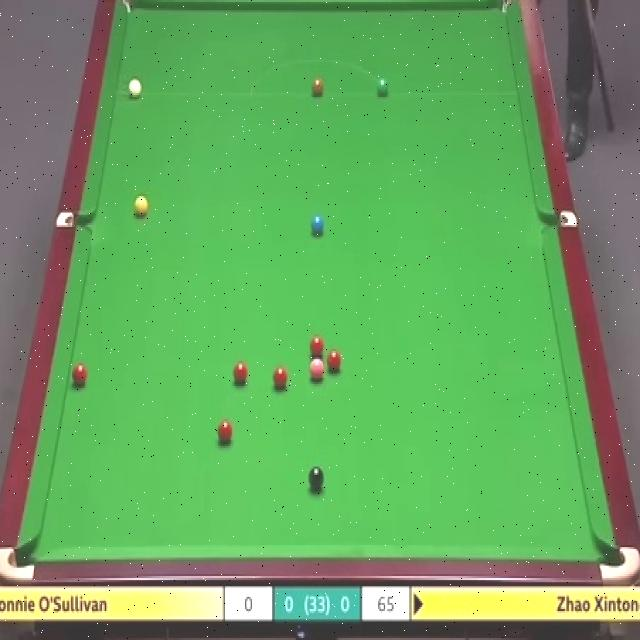black-ball: (308, 465, 326, 492)
blue-ball: (310, 212, 325, 236)
brown-ball: (311, 78, 324, 97)
green-ball: (376, 76, 389, 100)
pink-ball: (310, 357, 326, 381)
red-ball: (272, 365, 289, 393), (327, 349, 344, 376), (233, 360, 249, 388), (217, 418, 234, 444), (72, 362, 88, 388), (310, 333, 324, 359)
white-ball: (127, 74, 142, 98)
yellow-ball: (134, 196, 147, 216)
